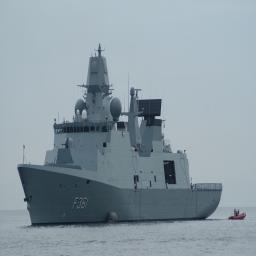Fragata: (15, 42, 224, 232)
